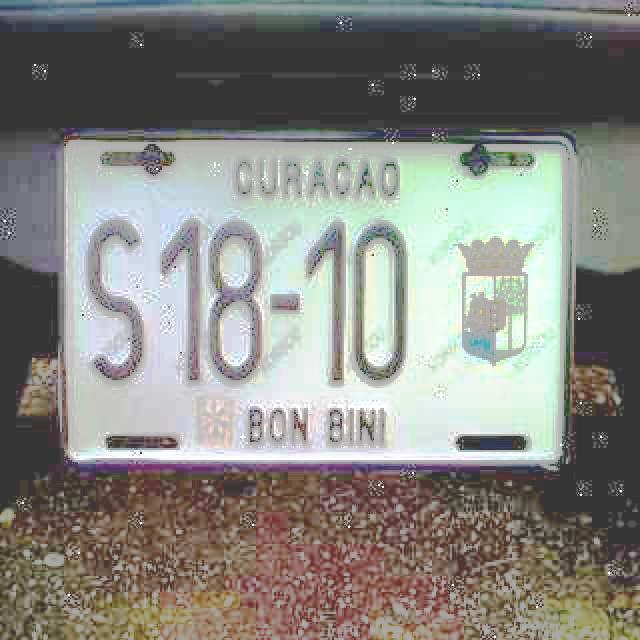license_plate: (51, 129, 584, 478)
